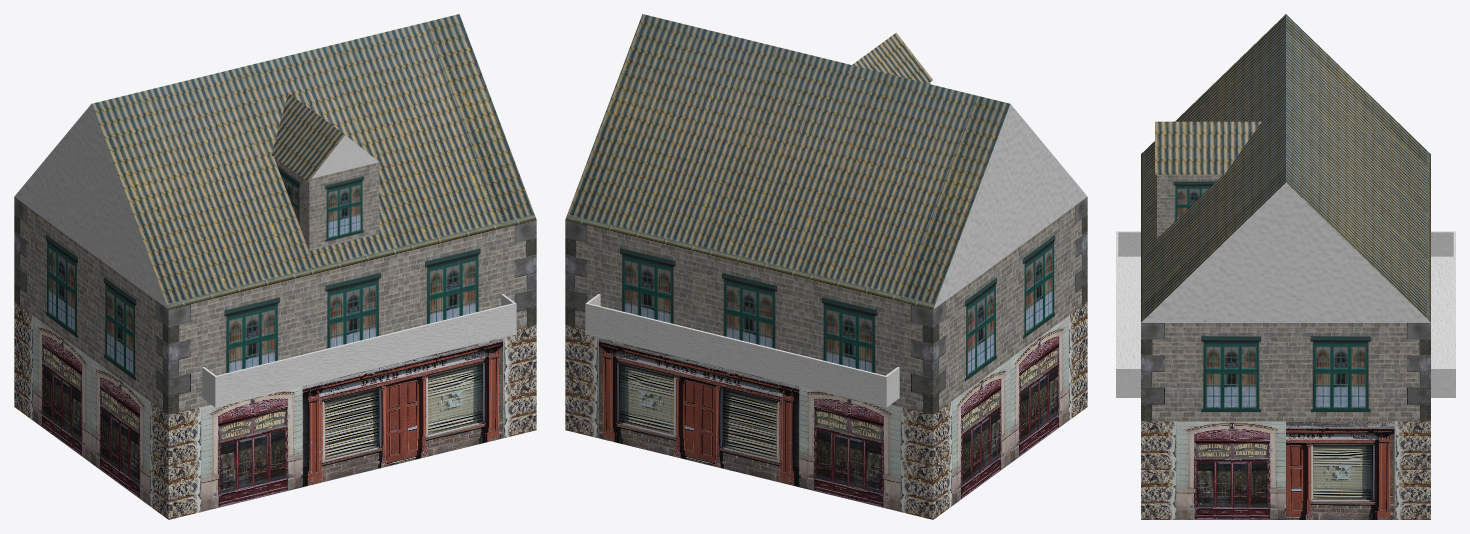
File: House_012.dae
3 renders of one model, left to right at view 1: azimuth 30°, elevation 25°; view 2: azimuth 150°, elevation 25°; view 3: azimuth 270°, elevation 25°, orthographic. The views are drawn at different scales.
Visible parts, largest first — view 1: House_012; view 2: House_012; view 3: House_012.
Part boxes in pixels (bbox=[...]): House_012: bbox=[14, 14, 536, 519]; House_012: bbox=[565, 14, 1087, 519]; House_012: bbox=[1116, 14, 1455, 519].
Bounding box in the file's own units: 88 × 75 × 82.16.
